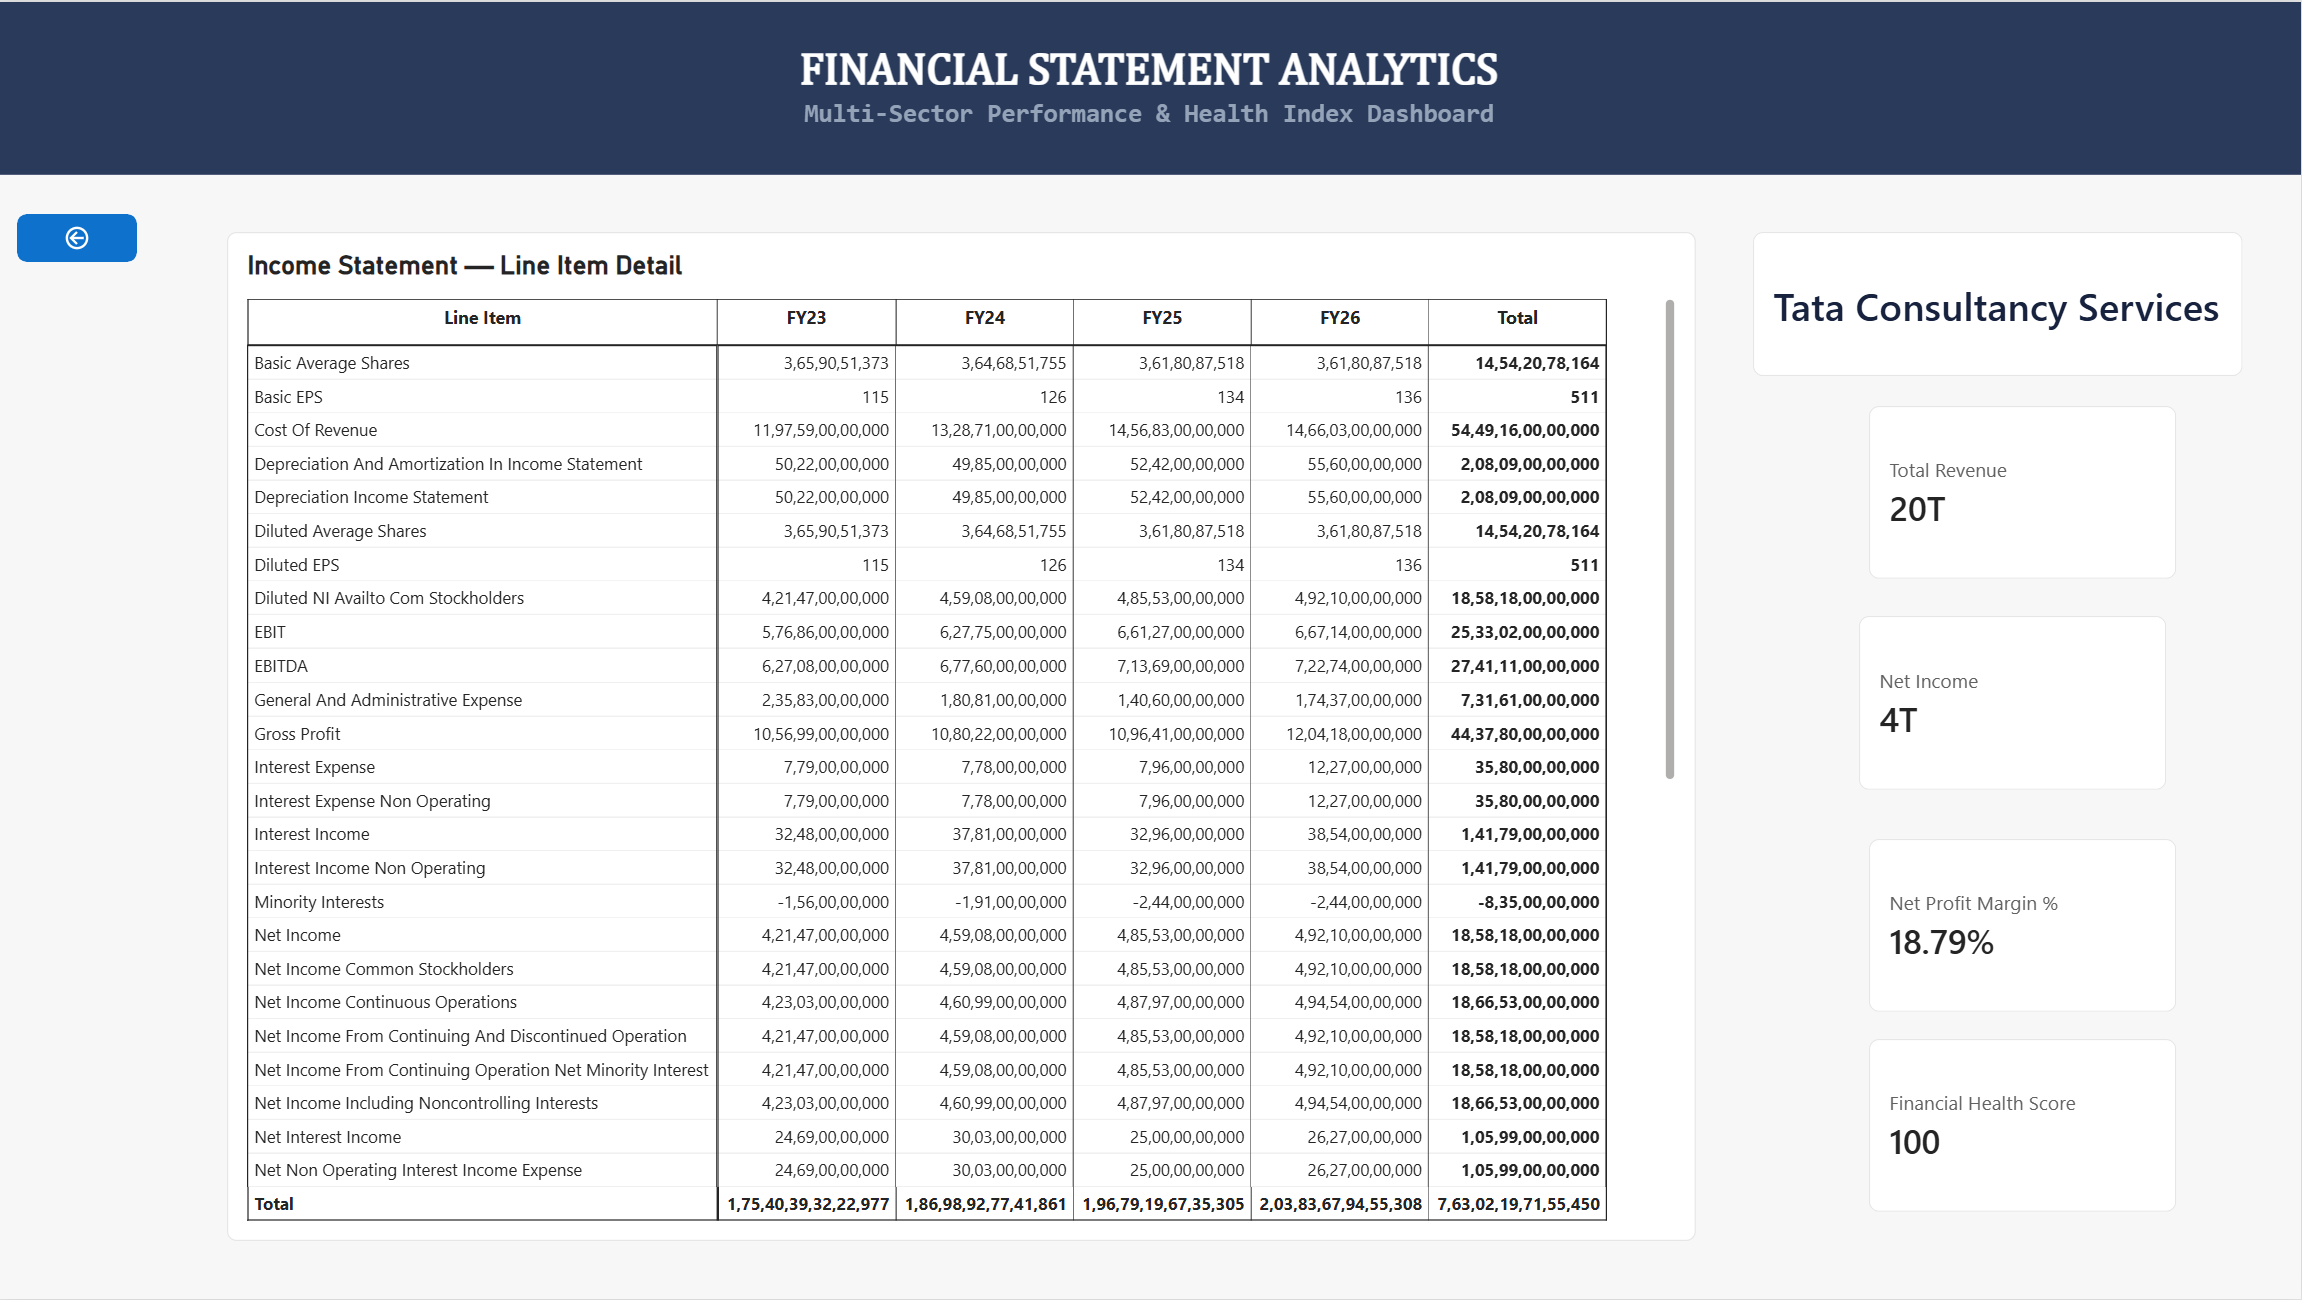

Layout of this report page (visuals, bound fields, positions):
{"tool":"powerbi","page":{"name":"Drill-through","canvas":[1920,1080],"ordinal":3},"visuals":[{"type":"actionButton","box":[16,176,100,40],"z":0},{"type":"cardVisual","fields":{"Data":["Min(Dim_Company.CompanyName)"]},"box":[1464,192,408,120],"z":1000},{"type":"cardVisual","fields":{"Data":["_Measures.Financial Health Score"]},"box":[1560,864,256,144],"z":2000},{"type":"cardVisual","fields":{"Data":["_Measures.Net Income"]},"box":[1552,512,256,144],"z":3000},{"type":"cardVisual","fields":{"Data":["_Measures.Net Profit Margin %"]},"box":[1560,696,256,144],"z":4000},{"type":"cardVisual","fields":{"Data":["_Measures.Total Revenue"]},"box":[1560,336,256,144],"z":5000},{"type":"pivotTable","title":"Income Statement — Line Item Detail","fields":{"Columns":["Dim_Date.FiscalYear"],"Rows":["Fact_IncomeStatement.Line Item"],"Values":["Sum(Fact_IncomeStatement.Value)"]},"box":[192,192,1224,840],"z":6000},{"type":"shape","box":[0,0,1920,144],"z":7000},{"type":"textbox","box":[0,16,1920,128],"z":8000}]}

Visuals, with their boxes in screenshot pixels (x1, y1, x2, y2), scaled from the page's 1920x1080 canvas onto the 2302x1300 screenshot:
actionButton: {"left": 19, "top": 212, "right": 139, "bottom": 260}
cardVisual - Min(Dim_Company.CompanyName): {"left": 1755, "top": 231, "right": 2244, "bottom": 376}
cardVisual - _Measures.Financial Health Score: {"left": 1870, "top": 1040, "right": 2177, "bottom": 1213}
cardVisual - _Measures.Net Income: {"left": 1861, "top": 616, "right": 2168, "bottom": 790}
cardVisual - _Measures.Net Profit Margin %: {"left": 1870, "top": 838, "right": 2177, "bottom": 1011}
cardVisual - _Measures.Total Revenue: {"left": 1870, "top": 404, "right": 2177, "bottom": 578}
"Income Statement — Line Item Detail" pivotTable: {"left": 230, "top": 231, "right": 1698, "bottom": 1242}
shape: {"left": 0, "top": 0, "right": 2301, "bottom": 173}
textbox: {"left": 0, "top": 19, "right": 2301, "bottom": 173}
